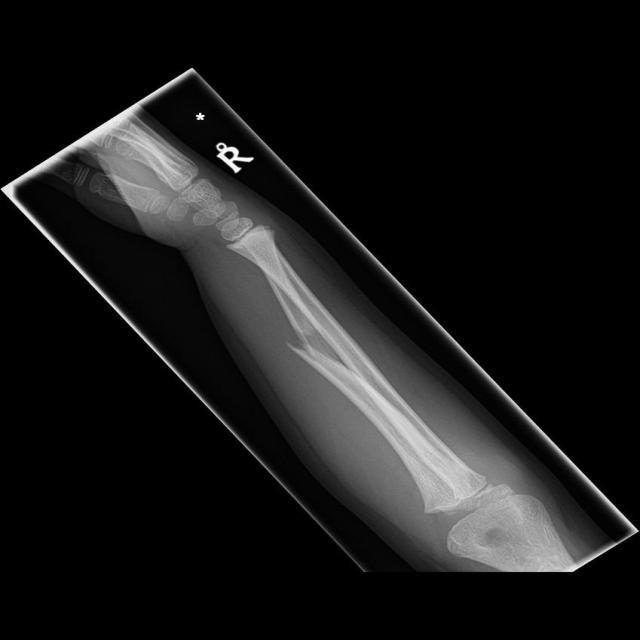fracture: (282, 323, 340, 375)
